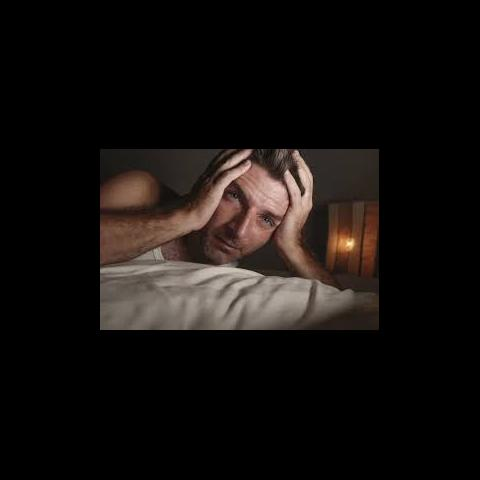opened: (224, 183, 278, 232)
